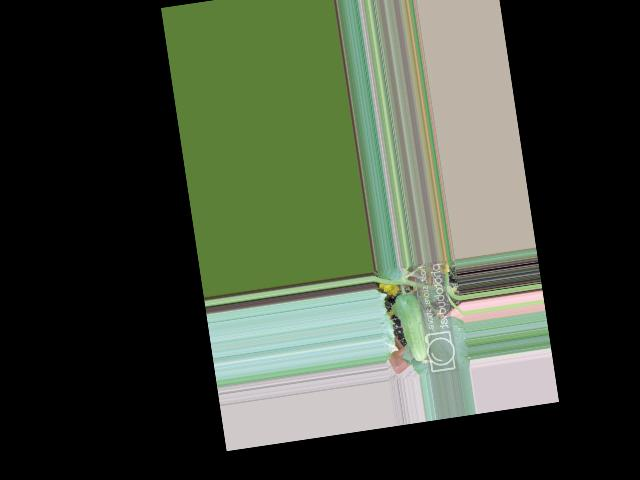cucumber: (394, 292, 431, 364)
